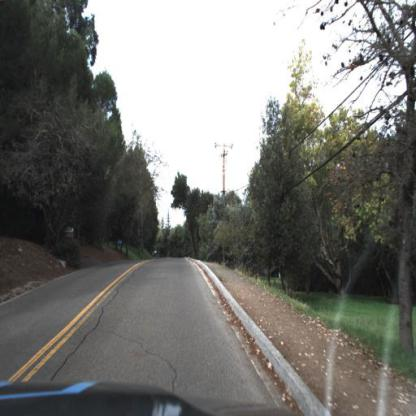car: (150, 245, 160, 265)
